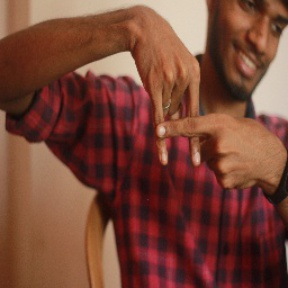H: (132, 63, 235, 173)
